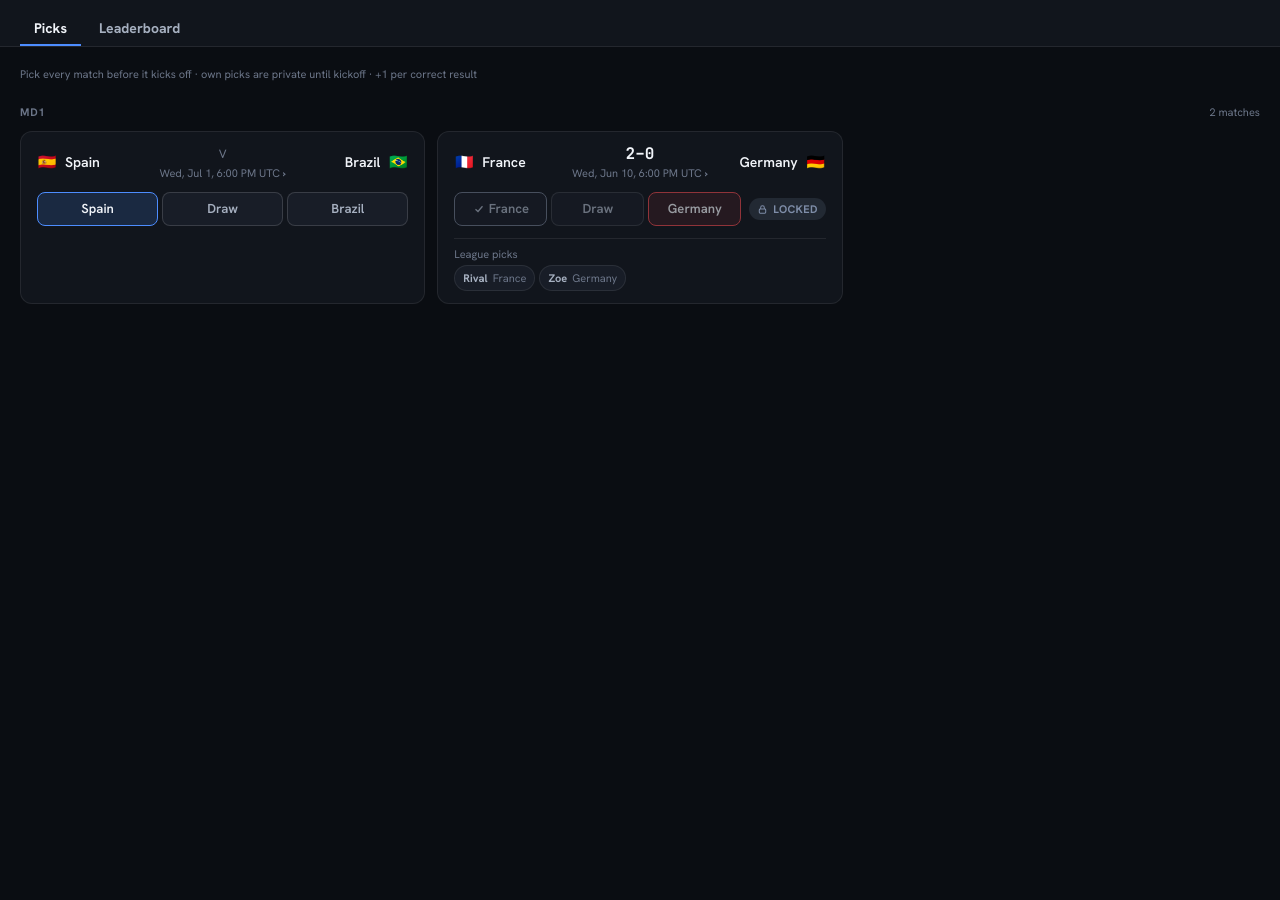
leaderboard → manager picks drill-in (T4) › clicking a rival reveals ONLY their kicked-off pick — never their not-yet-kicked-off pick
The width and height of the screenshot is (1280, 900).
Click the tab "Leaderboard": click(140, 29) x1=85 y1=12 x2=194 y2=46
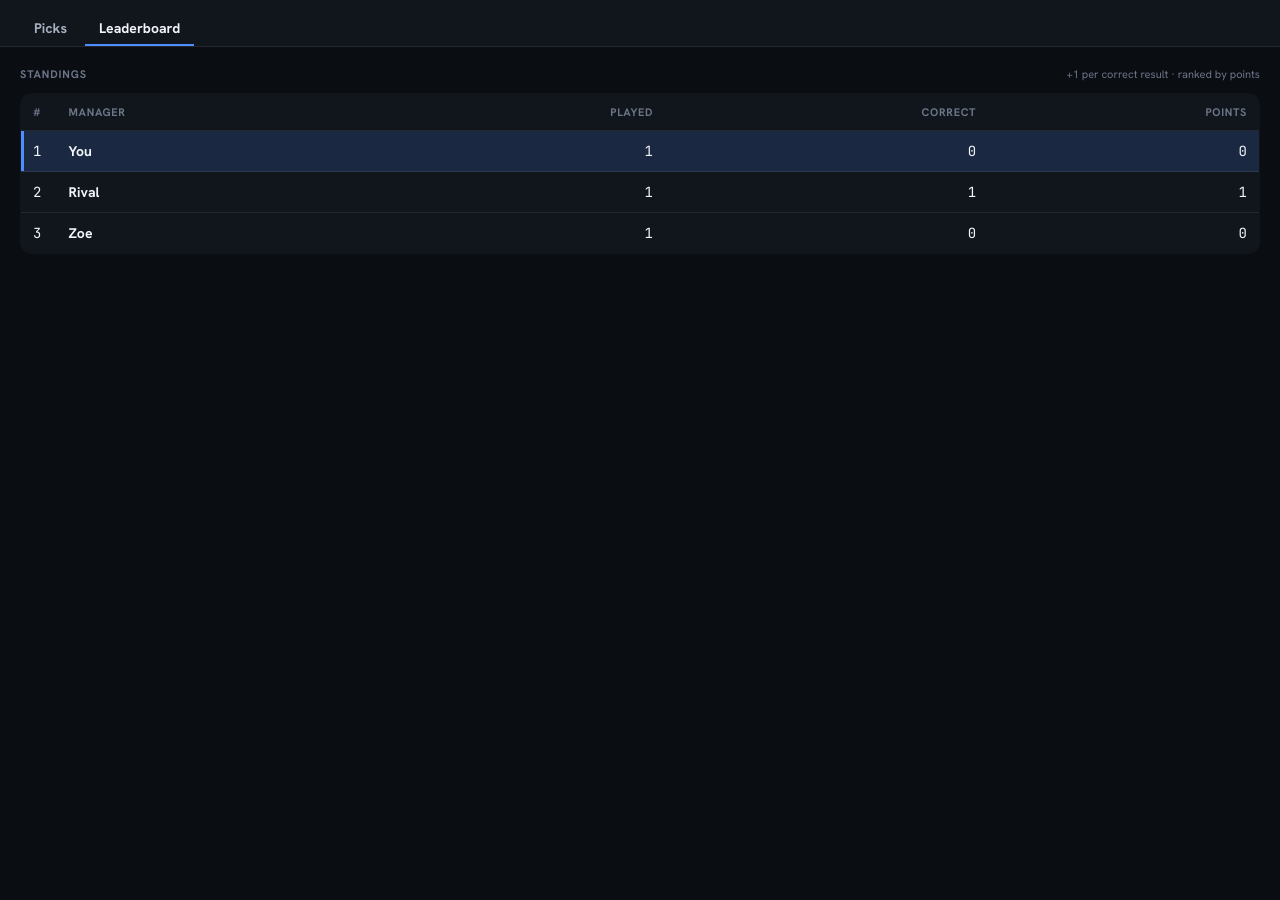
Click the button "Rival": click(84, 192) x1=68 y1=182 x2=100 y2=202
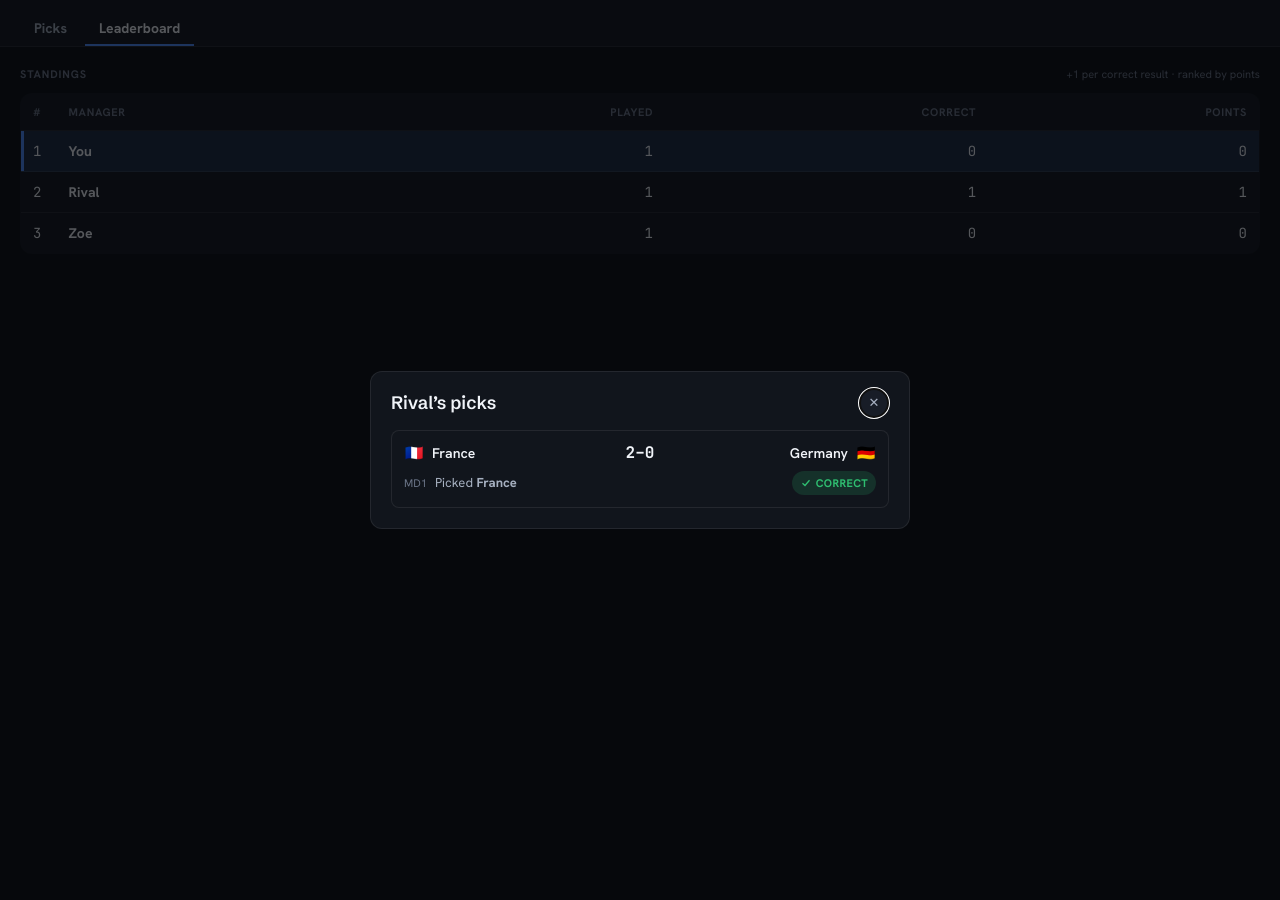
Expected: the text "Rival’s picks" is shown, x1=391 y1=391 x2=496 y2=415
Expected: the text "France" next to "Picked" is shown, x1=476 y1=474 x2=517 y2=491
Expected: the text "Correct" is shown, x1=792 y1=471 x2=876 y2=495
